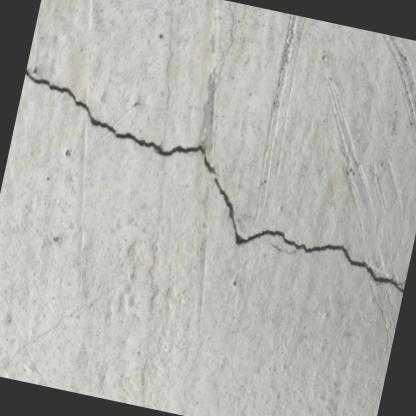crack: (23, 66, 404, 294)
